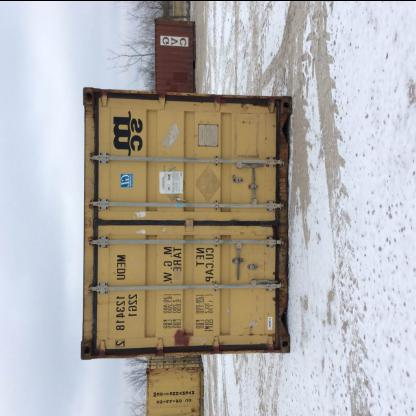Damage: (115, 83, 276, 119), (82, 79, 110, 133), (158, 113, 184, 171), (74, 204, 102, 236)
